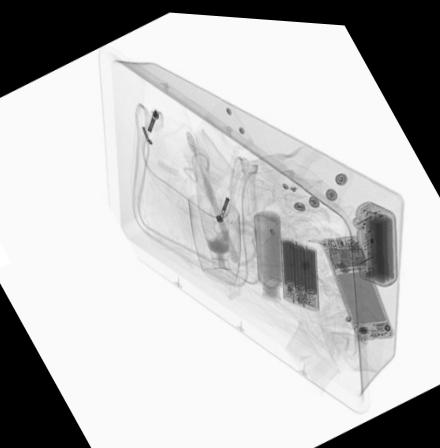Powerbank: (279, 231, 320, 308)
